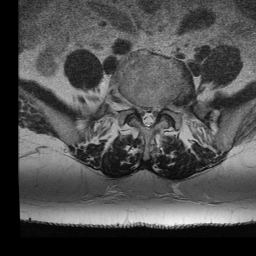CCS_normal: (145, 98, 152, 135)
LFS_severe_stenosis: (158, 95, 167, 117)
LLS_normal: (152, 97, 158, 129)
RFS_stenosis: (131, 94, 139, 117)
RLS_normal: (139, 97, 145, 129)
